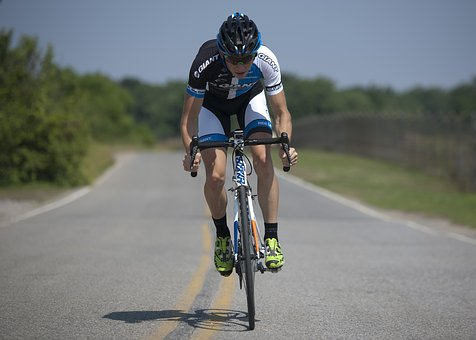bikerider: (179, 9, 307, 334)
